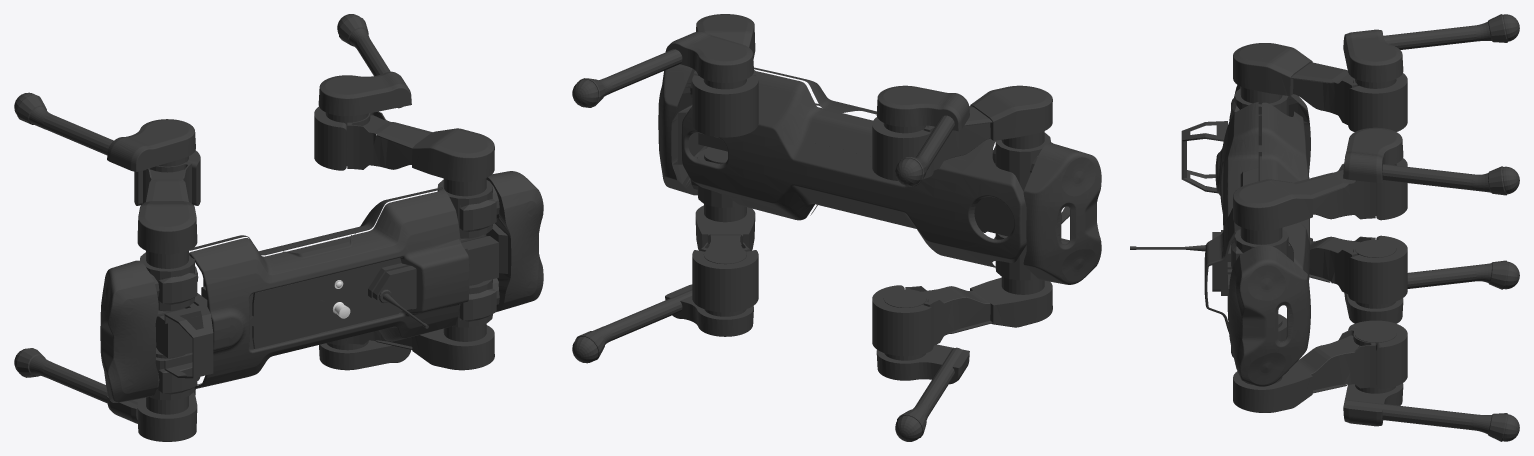
Rendered from quadruped.glb.
The picture shows the model from 3 angles, left to right: view 1: azimuth 30°, elevation 25°; view 2: azimuth 150°, elevation 25°; view 3: azimuth 270°, elevation 25°; orthographic projection. The views are drawn at different scales.
Visible parts, largest first — view 1: quadruped_6, quadruped_34, quadruped_10, quadruped_5, quadruped_11, quadruped_22, quadruped_13, quadruped_36, quadruped_24, quadruped_28, quadruped_9, quadruped_8 (+14 smaller); view 2: quadruped_7, quadruped_10, quadruped_16, quadruped_22, quadruped_28, quadruped_34, quadruped_11, quadruped_24, quadruped_36, quadruped_31, quadruped_37, quadruped_18 (+13 smaller); view 3: quadruped_11, quadruped_22, quadruped_28, quadruped_34, quadruped_16, quadruped_6, quadruped_7, quadruped_31, quadruped_36, quadruped_24, quadruped_37, quadruped_25 (+13 smaller).
Part boxes in pixels (x1=…): quadruped_6: x1=189, y1=190, x2=469, y2=388; quadruped_34: x1=314, y1=106, x2=494, y2=181; quadruped_10: x1=100, y1=260, x2=158, y2=402; quadruped_5: x1=155, y1=234, x2=498, y2=358; quadruped_11: x1=486, y1=171, x2=543, y2=311; quadruped_22: x1=134, y1=150, x2=200, y2=254; quadruped_13: x1=250, y1=277, x2=324, y2=348; quadruped_36: x1=318, y1=71, x2=411, y2=116; quadruped_24: x1=107, y1=119, x2=195, y2=171; quadruped_28: x1=327, y1=325, x2=494, y2=370; quadruped_9: x1=164, y1=304, x2=213, y2=378; quadruped_8: x1=368, y1=263, x2=428, y2=328; quadruped_7: x1=681, y1=70, x2=1026, y2=267; quadruped_10: x1=1023, y1=143, x2=1101, y2=284; quadruped_16: x1=872, y1=277, x2=1052, y2=356; quadruped_22: x1=872, y1=85, x2=1052, y2=180; quadruped_28: x1=692, y1=205, x2=758, y2=312; quadruped_34: x1=692, y1=14, x2=758, y2=137; quadruped_11: x1=658, y1=64, x2=709, y2=195; quadruped_24: x1=876, y1=85, x2=969, y2=131; quadruped_36: x1=665, y1=31, x2=753, y2=82; quadruped_31: x1=572, y1=289, x2=692, y2=363; quadruped_37: x1=572, y1=49, x2=682, y2=107; quadruped_18: x1=876, y1=344, x2=969, y2=384; quadruped_11: x1=1228, y1=245, x2=1310, y2=386; quadruped_22: x1=1233, y1=43, x2=1407, y2=131; quadruped_28: x1=1233, y1=320, x2=1407, y2=412; quadruped_34: x1=1233, y1=158, x2=1407, y2=230; quadruped_16: x1=1309, y1=235, x2=1407, y2=304; quadruped_6: x1=1204, y1=102, x2=1258, y2=332; quadruped_7: x1=1262, y1=102, x2=1309, y2=279; quadruped_31: x1=1345, y1=400, x2=1519, y2=441; quadruped_36: x1=1343, y1=127, x2=1403, y2=182; quadruped_24: x1=1343, y1=29, x2=1403, y2=82; quadruped_37: x1=1382, y1=164, x2=1519, y2=195; quadruped_25: x1=1383, y1=14, x2=1519, y2=49.
Size of the model in its own units: 1.05 by 0.6518 by 0.8431.
Materials: 1 (1 with a texture image).
